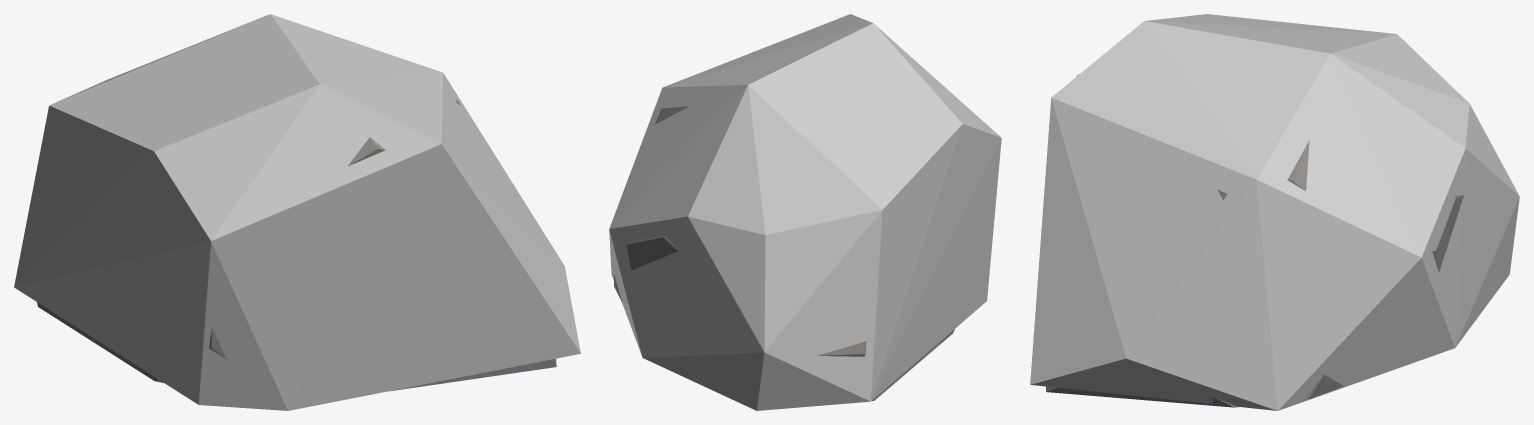
The model's file is SM_Rock_09.fbx.
The picture shows the model from 3 angles, left to right: view 1: azimuth 30°, elevation 25°; view 2: azimuth 150°, elevation 25°; view 3: azimuth 270°, elevation 25°; orthographic projection. The views are drawn at different scales.
Parts seen in each view (by area): view 1: SM_Rock_09_ConvexHulls, SM_Rock_09; view 2: SM_Rock_09_ConvexHulls, SM_Rock_09; view 3: SM_Rock_09_ConvexHulls, SM_Rock_09.
Boxes of the visible parts, <box> form: SM_Rock_09_ConvexHulls: <box>14,14,580,410</box>; SM_Rock_09: <box>37,99,556,391</box>; SM_Rock_09_ConvexHulls: <box>609,14,1001,410</box>; SM_Rock_09: <box>614,106,954,400</box>; SM_Rock_09_ConvexHulls: <box>1030,14,1519,410</box>; SM_Rock_09: <box>1046,74,1464,407</box>.
Size of the model in its own units: 32.97 by 37.18 by 23.9.
2 materials, 1 textured.
